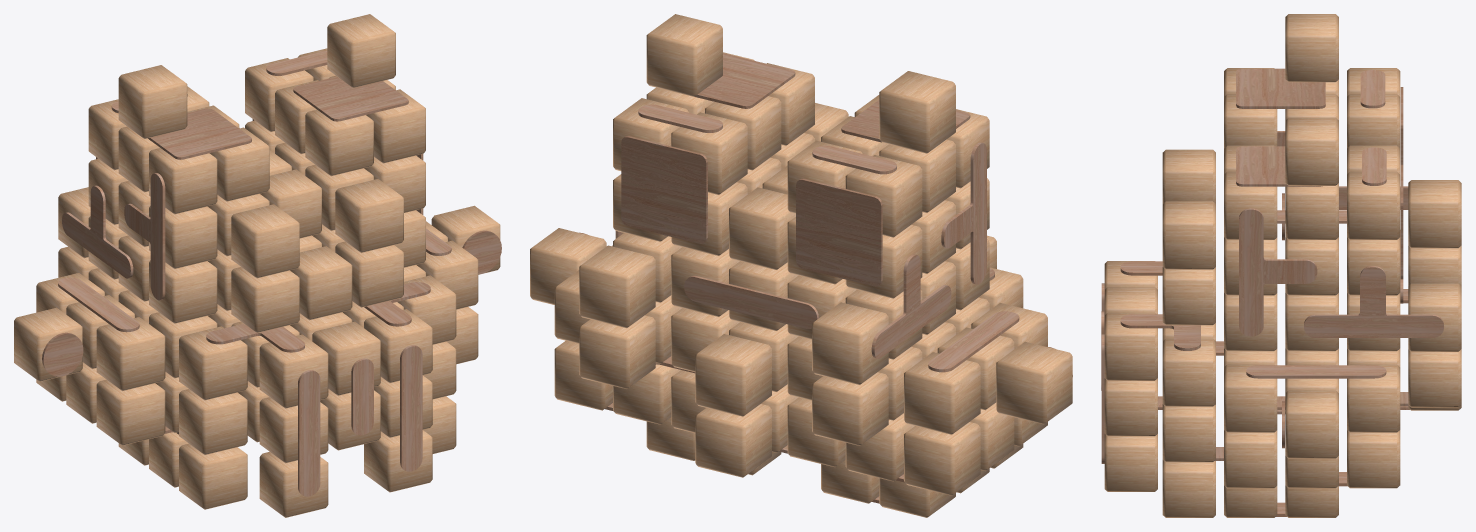
The model's file is level_84.fbx.
3 views of the same model, side by side, from view 1: azimuth 30°, elevation 25°; view 2: azimuth 150°, elevation 25°; view 3: azimuth 270°, elevation 25° (orthographic). The views are drawn at different scales.
Visible parts, largest first — view 1: Cube.188, Cube.021, Cube.191, Cube.075, Cube.069, Cube.062, Cube.045, Cube.014, Cube.038, Cube.019, Cube.142, Cube.077 (+62 smaller); view 2: obj_obs_square.004, obj_obs_square.005, Cube.188, Cube.191, Cube.120, Cube.012, Cube.180, Cube.066, Cube.071, Cube.174, Cube.102, Cube.047 (+58 smaller); view 3: obj_obs_T.005, obj_obs_T.004, Cube.075, Cube.066, Cube.188, Cube.191, Cube.006, Cube.116, Cube.129, Cube.105, Cube.110, Cube.049 (+42 smaller).
Part boxes in pixels (bbox=[...]): Cube.188: bbox=[118, 65, 187, 138]; Cube.021: bbox=[231, 204, 299, 278]; Cube.191: bbox=[327, 14, 395, 88]; Cube.075: bbox=[335, 179, 403, 252]; Cube.069: bbox=[96, 317, 165, 390]; Cube.062: bbox=[179, 326, 247, 400]; Cube.045: bbox=[96, 379, 165, 445]; Cube.014: bbox=[179, 443, 247, 509]; Cube.038: bbox=[179, 389, 247, 454]; Cube.019: bbox=[231, 267, 299, 332]; Cube.142: bbox=[305, 109, 373, 176]; Cube.077: bbox=[290, 246, 352, 320]; obj_obs_square.004: bbox=[796, 178, 882, 286]; obj_obs_square.005: bbox=[621, 136, 707, 243]; Cube.188: bbox=[879, 71, 955, 153]; Cube.191: bbox=[646, 14, 722, 96]; Cube.120: bbox=[579, 245, 655, 327]; Cube.012: bbox=[996, 341, 1072, 424]; Cube.180: bbox=[695, 334, 771, 416]; Cube.066: bbox=[812, 302, 888, 384]; Cube.071: bbox=[904, 352, 980, 434]; Cube.174: bbox=[695, 404, 771, 477]; Cube.102: bbox=[579, 315, 655, 388]; Cube.047: bbox=[904, 422, 980, 495]; obj_obs_T.005: bbox=[1304, 266, 1443, 337]; obj_obs_T.004: bbox=[1239, 208, 1317, 336]; Cube.075: bbox=[1162, 201, 1215, 269]; Cube.066: bbox=[1408, 180, 1461, 248]; Cube.188: bbox=[1285, 14, 1338, 82]; Cube.191: bbox=[1285, 117, 1338, 185]; Cube.006: bbox=[1285, 390, 1338, 458]; Cube.116: bbox=[1162, 338, 1215, 406]; Cube.129: bbox=[1347, 171, 1400, 239]; Cube.105: bbox=[1224, 364, 1277, 432]; Cube.110: bbox=[1347, 364, 1400, 432]; Cube.049: bbox=[1104, 312, 1157, 380].
Bounding box in the file's own units: 20.4 × 15.89 × 13.5.
